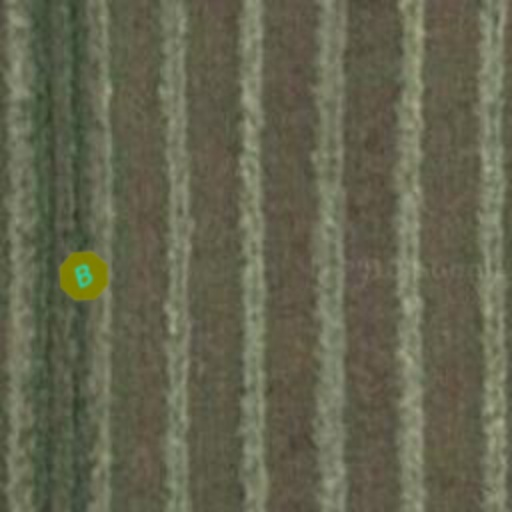octagon: (48, 240, 120, 312)
